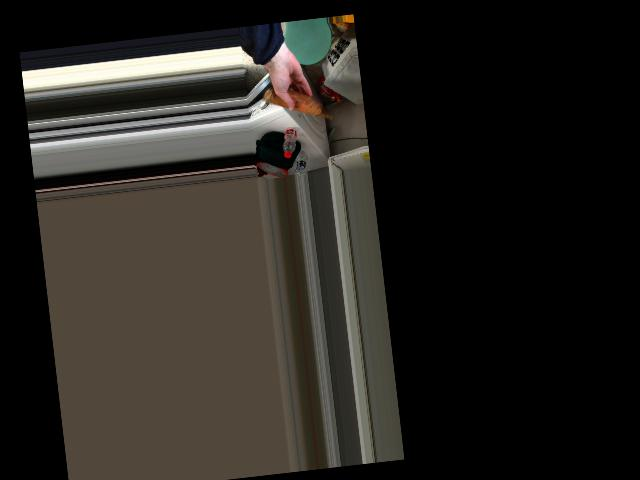sweet_potato: (266, 84, 316, 121)
